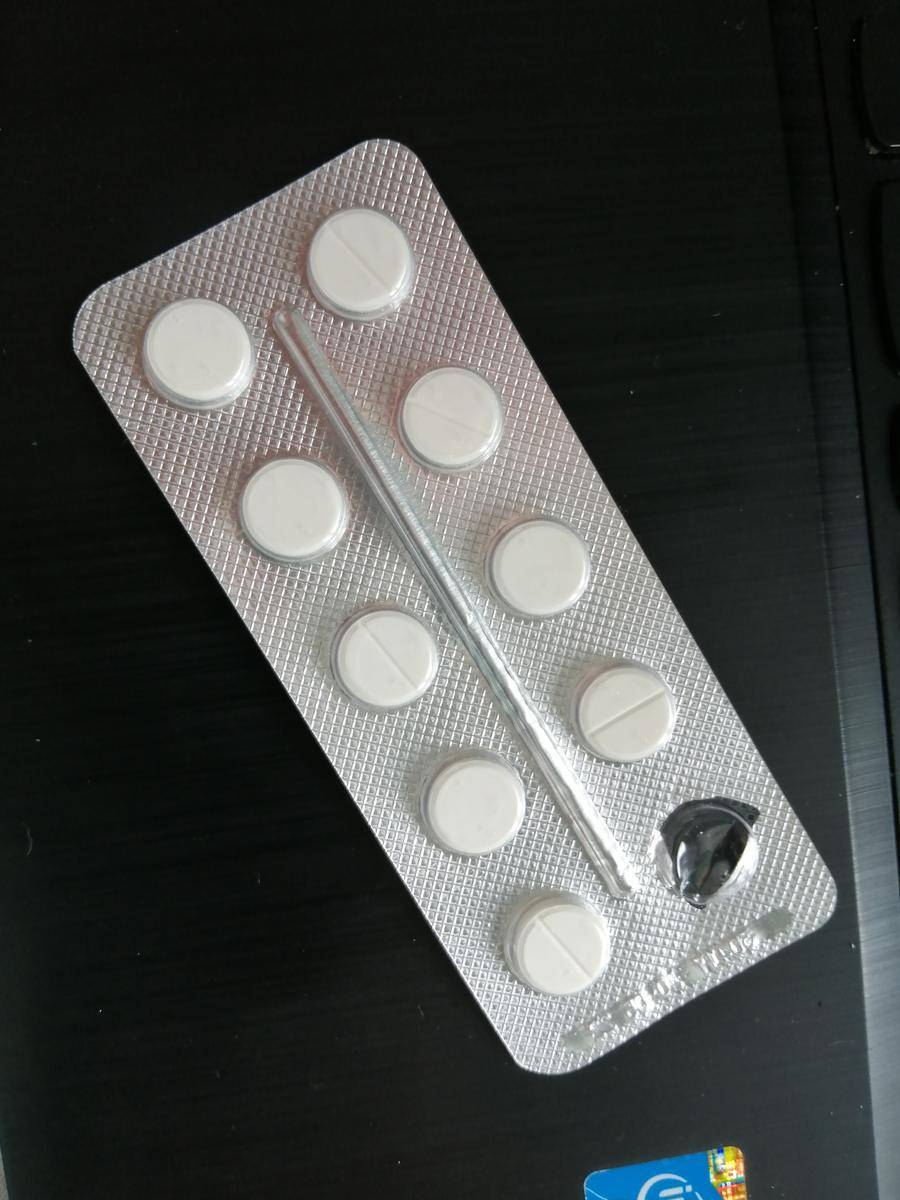tablet: (231, 446, 358, 562), (140, 293, 255, 410), (302, 206, 415, 321), (573, 660, 689, 768), (396, 363, 511, 471), (420, 751, 536, 856), (508, 890, 617, 1001), (330, 603, 440, 712), (486, 513, 595, 619)
